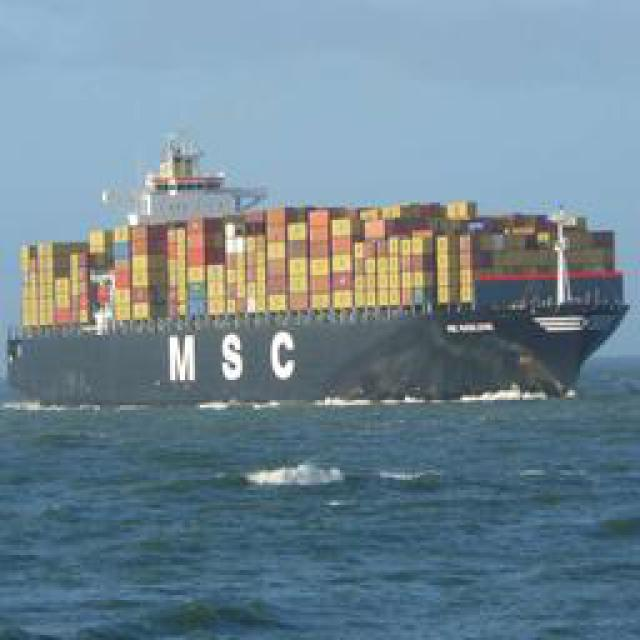Ship: (16, 129, 631, 384)
